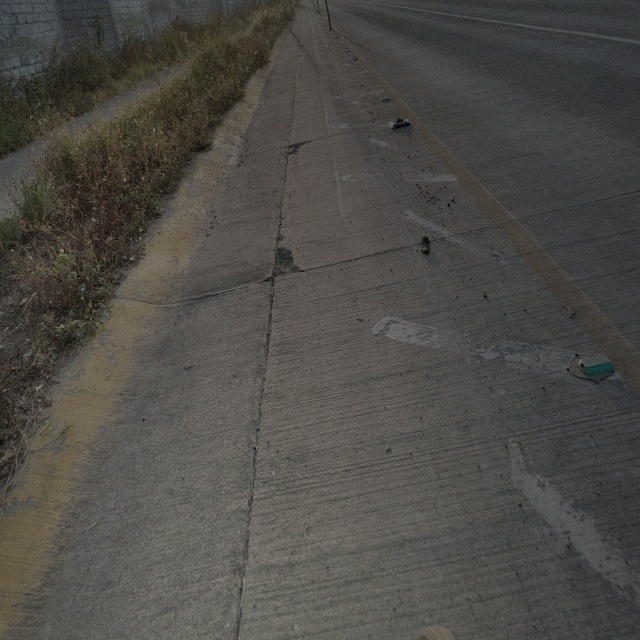pothole: (272, 244, 304, 284), (284, 142, 310, 163)
